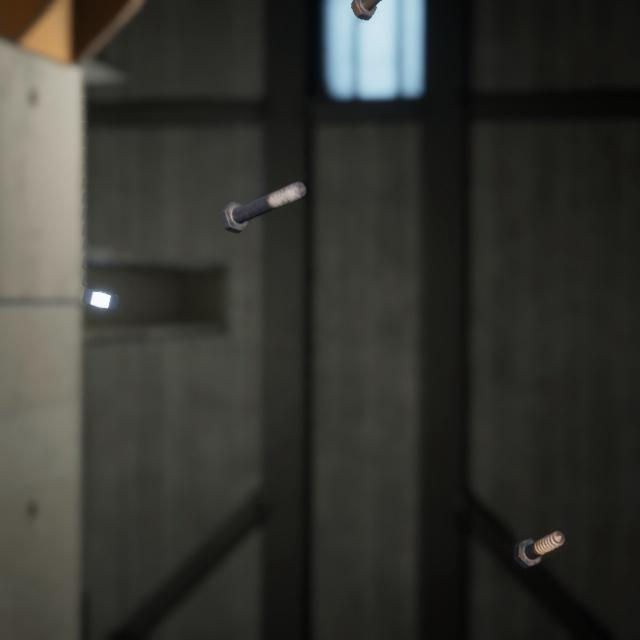bolt: (215, 161, 310, 222), (509, 503, 569, 550)
nut: (77, 266, 123, 297)
